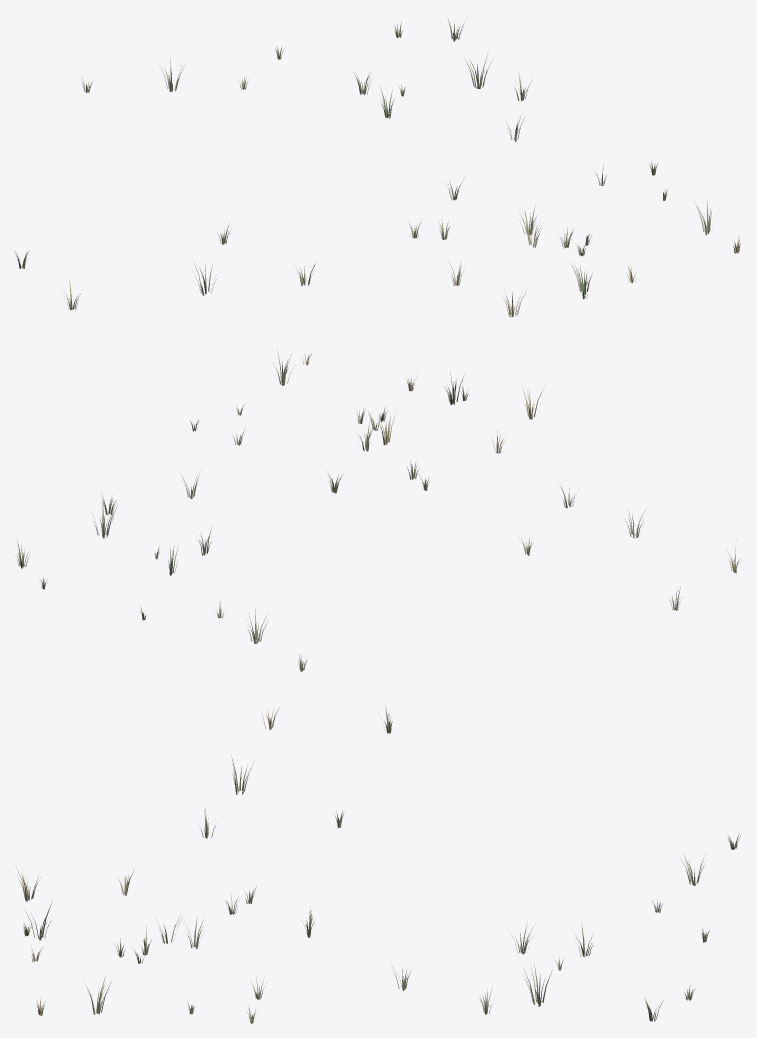
The model's file is AE_Grass_0_1.fbx.
3 views of the same model, one above another, from view 1: azimuth 30°, elevation 25°; view 2: azimuth 150°, elevation 25°; view 3: azimuth 270°, elevation 25° (orthographic). The views are drawn at different scales.
Visible parts, largest first — view 1: AE_Grass_0_1_LOD0; view 2: AE_Grass_0_1_LOD0; view 3: AE_Grass_0_1_LOD0.
Part boxes in pixels (x1,y1,x2,y2): AE_Grass_0_1_LOD0: [15, 19, 740, 317]; AE_Grass_0_1_LOD0: [16, 349, 739, 671]; AE_Grass_0_1_LOD0: [15, 705, 740, 1023].
Size of what is drawn, in the model's own units: 1750 by 109 by 1783.
